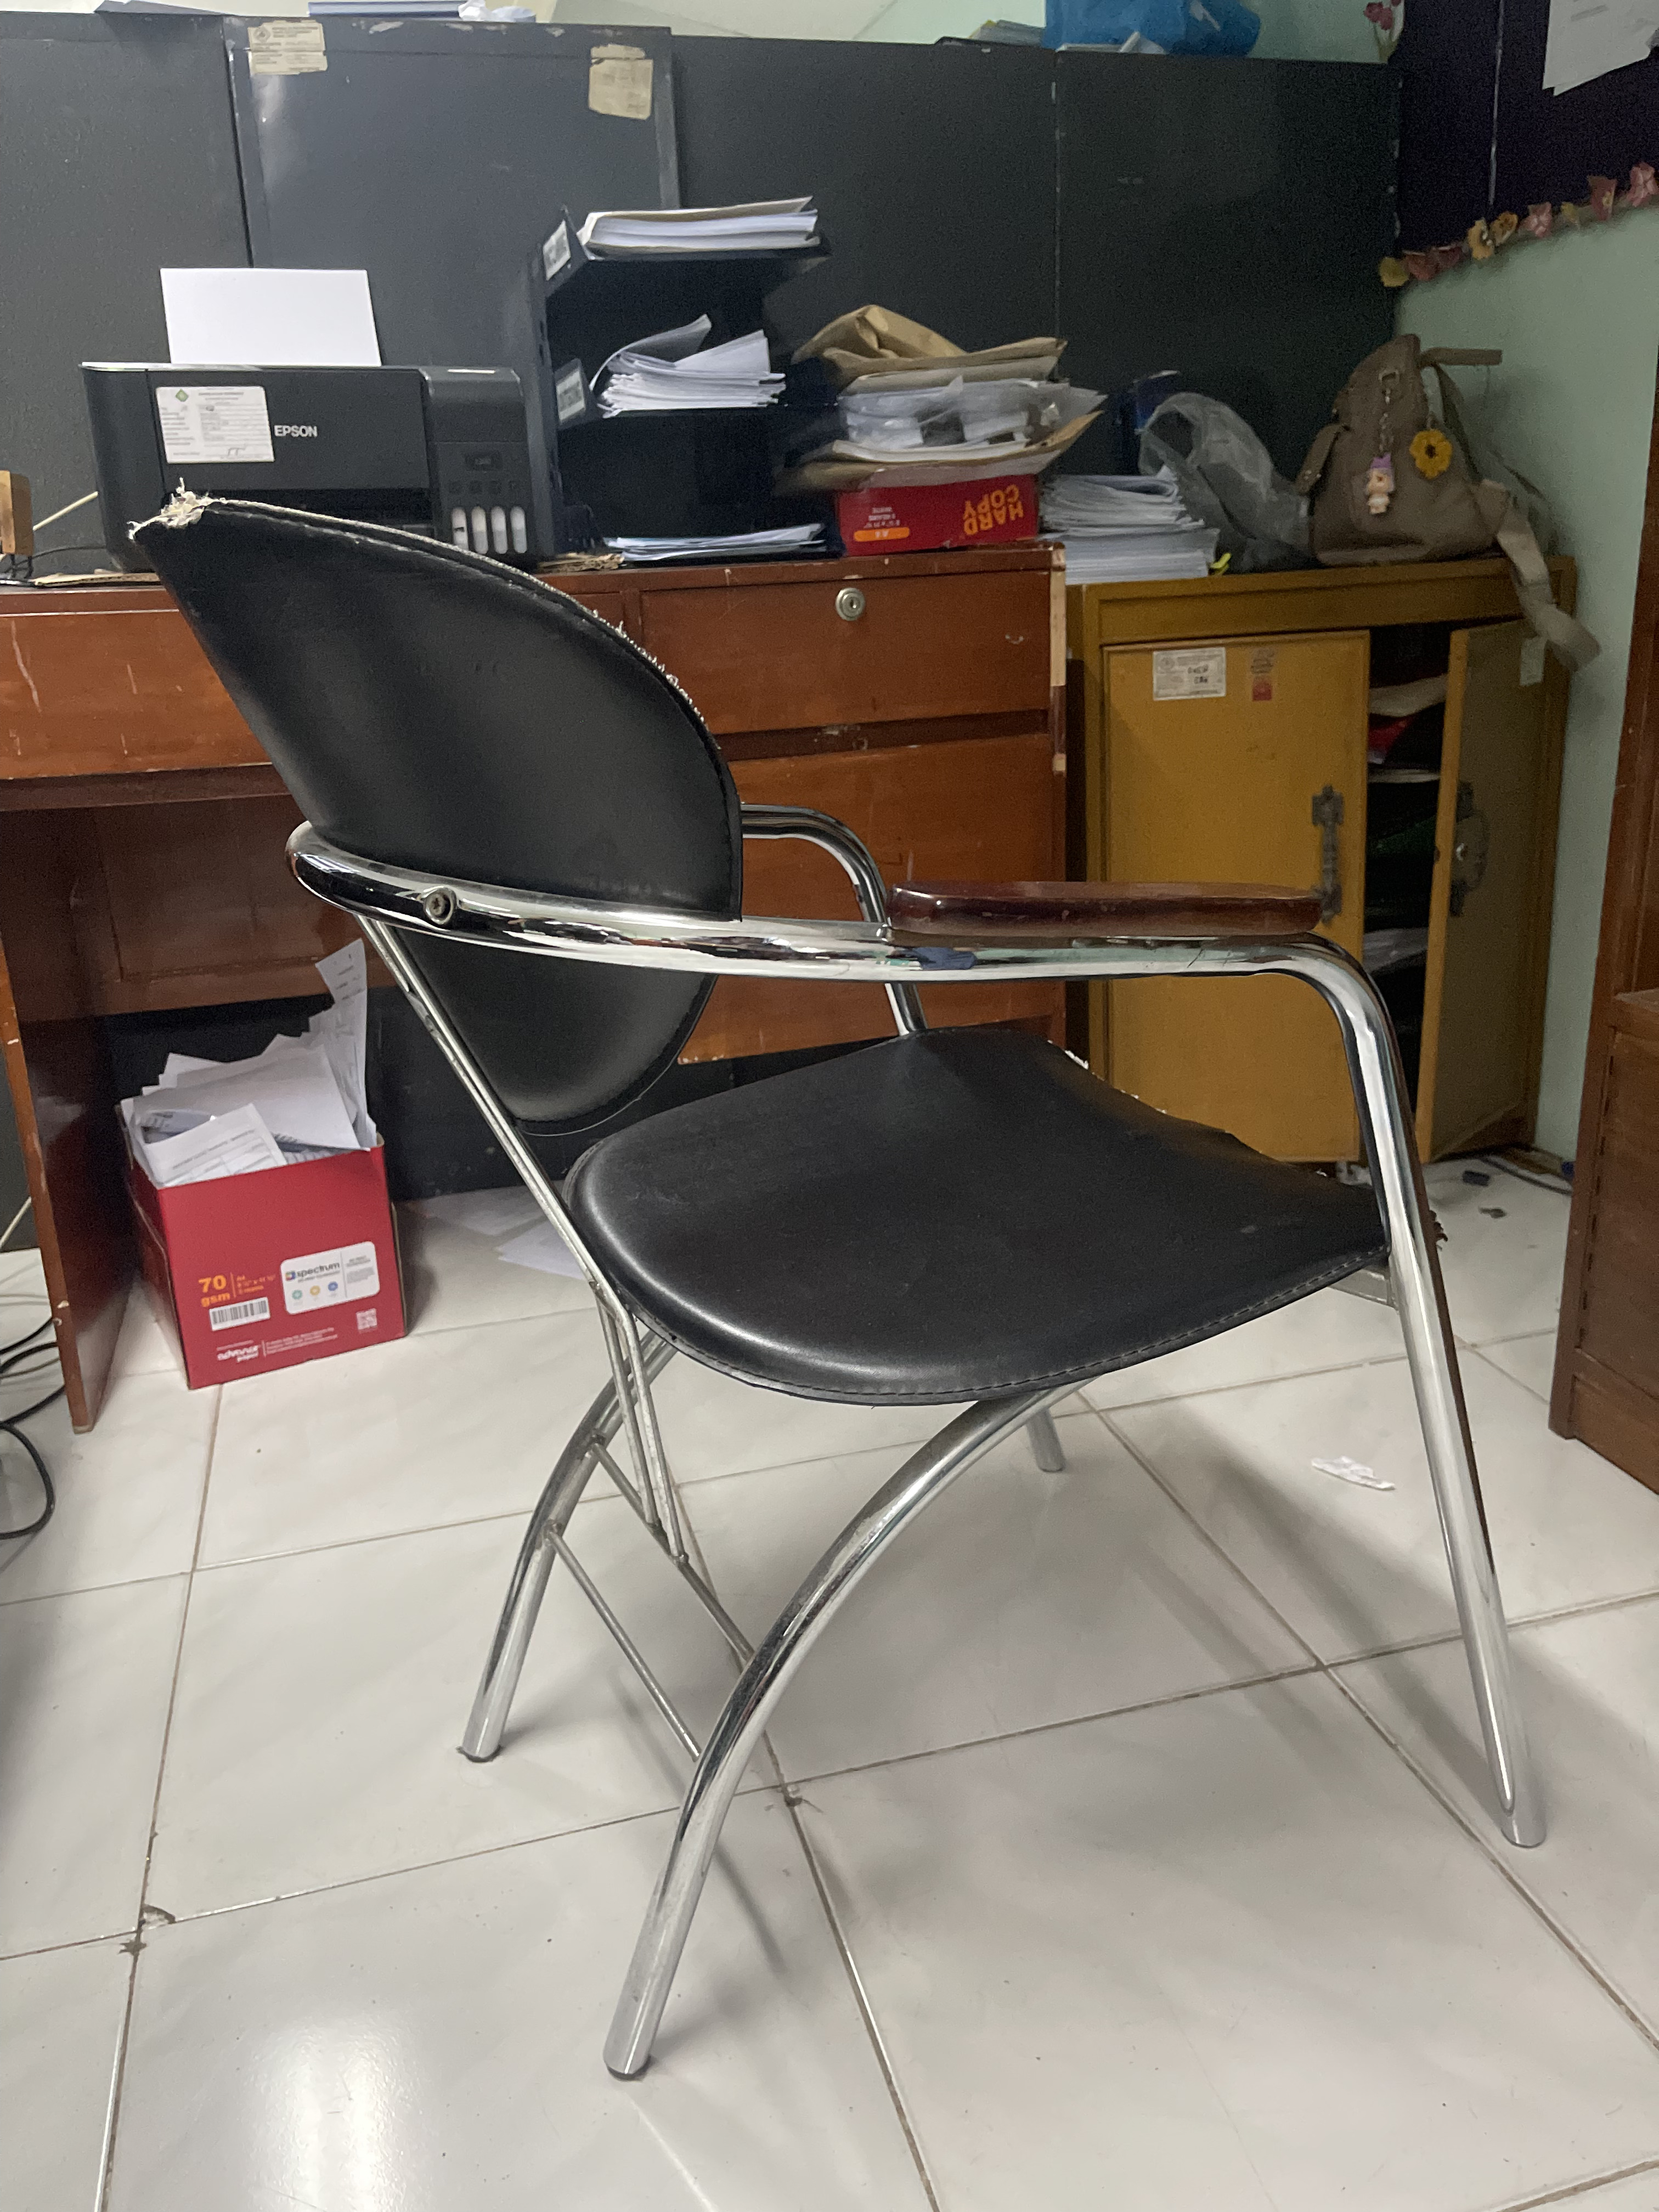chair1: (134, 491, 1563, 2102)
